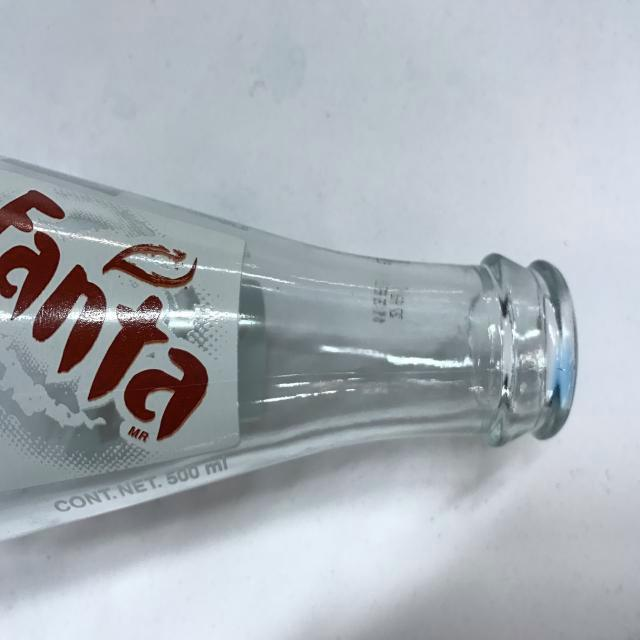glass: (0, 141, 586, 545)
